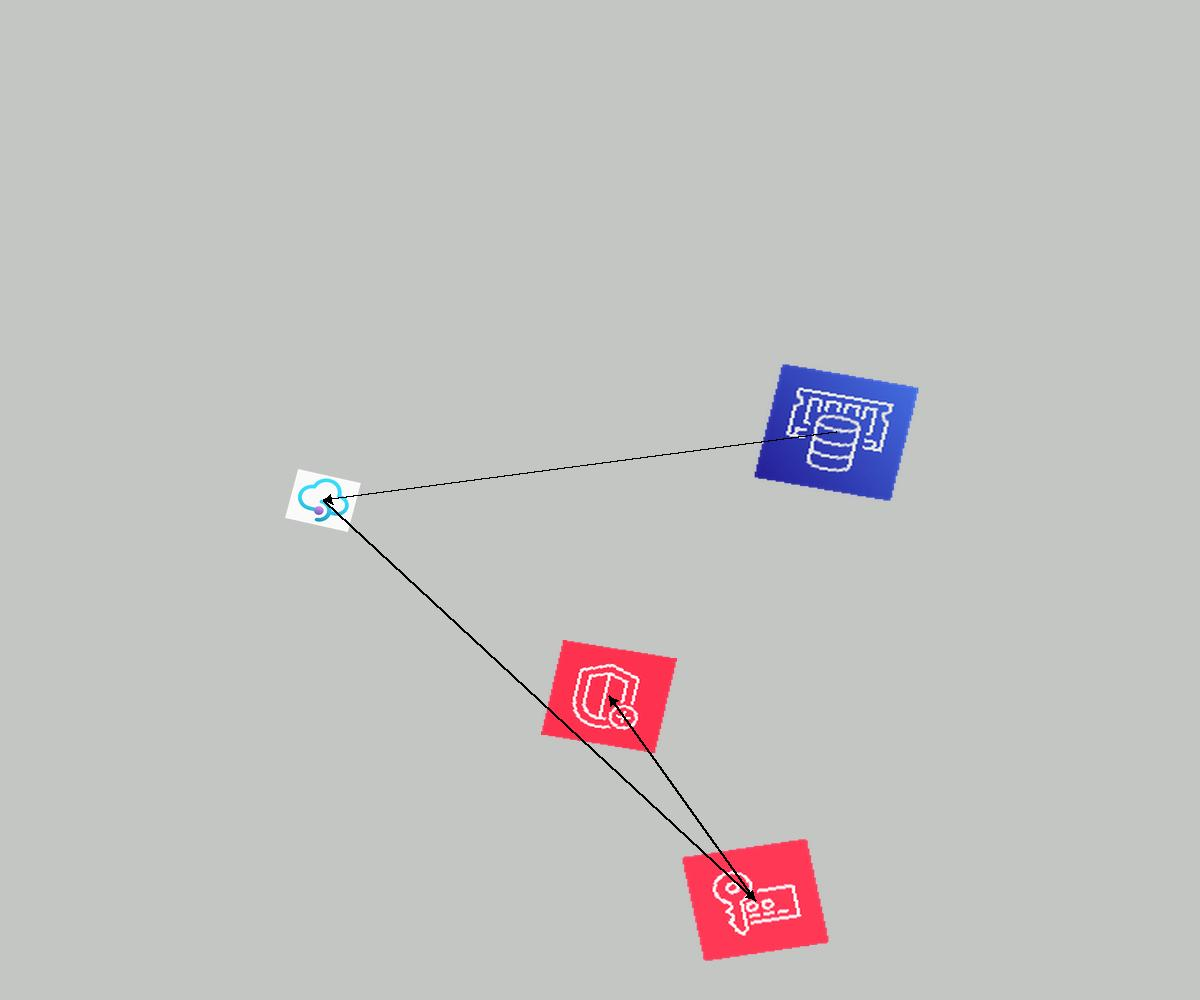AWS-ElastiCache: (753, 363, 920, 502)
AWS-Key-Management-Service: (681, 838, 830, 962)
AWS-Shield: (541, 640, 677, 753)
Azure_api_gateway: (285, 469, 361, 532)
